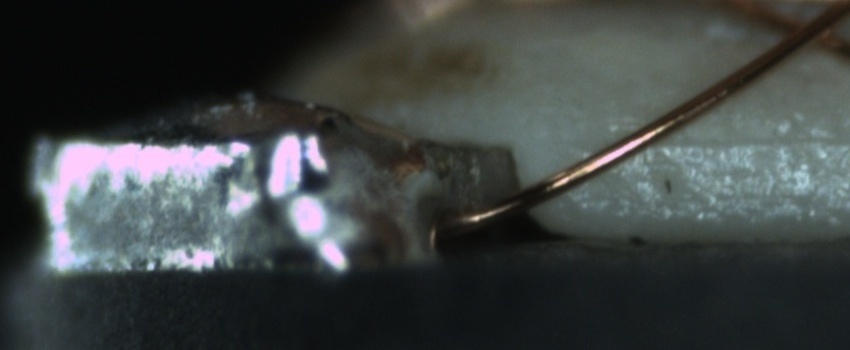CL: (757, 3, 846, 63)
DL: (615, 104, 847, 174)
